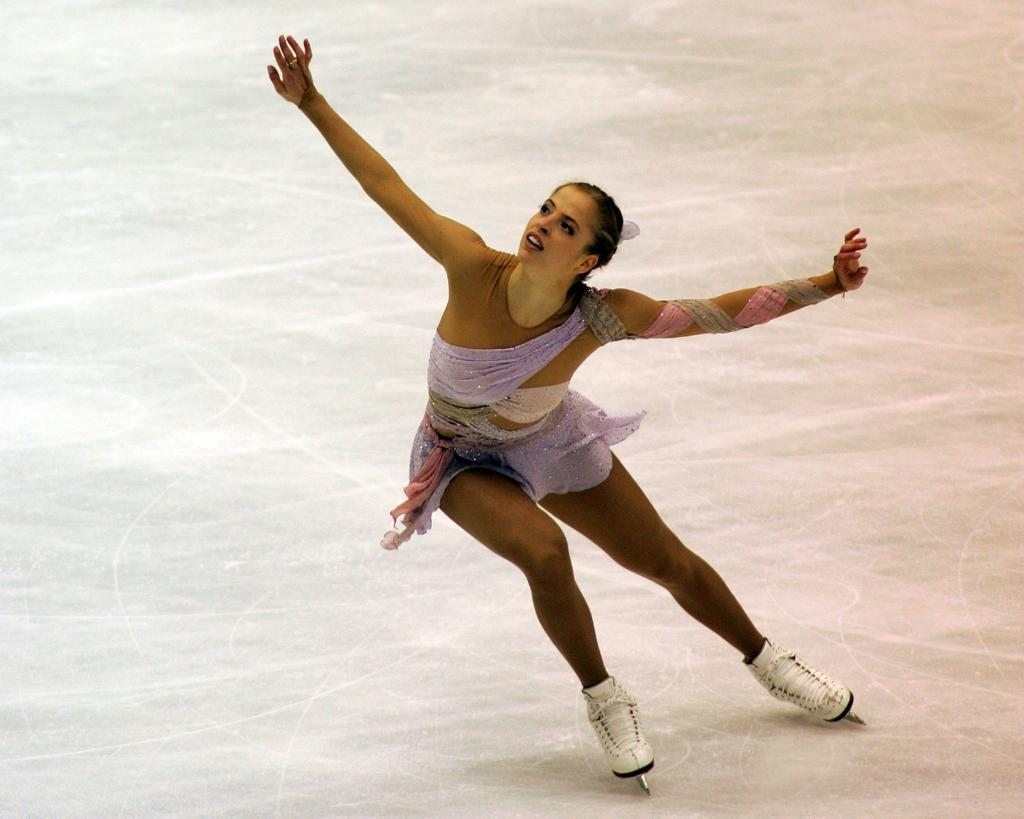face: (522, 180, 600, 276)
